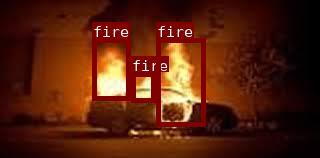fire: (155, 37, 205, 126), (91, 37, 130, 99), (131, 71, 155, 101)
